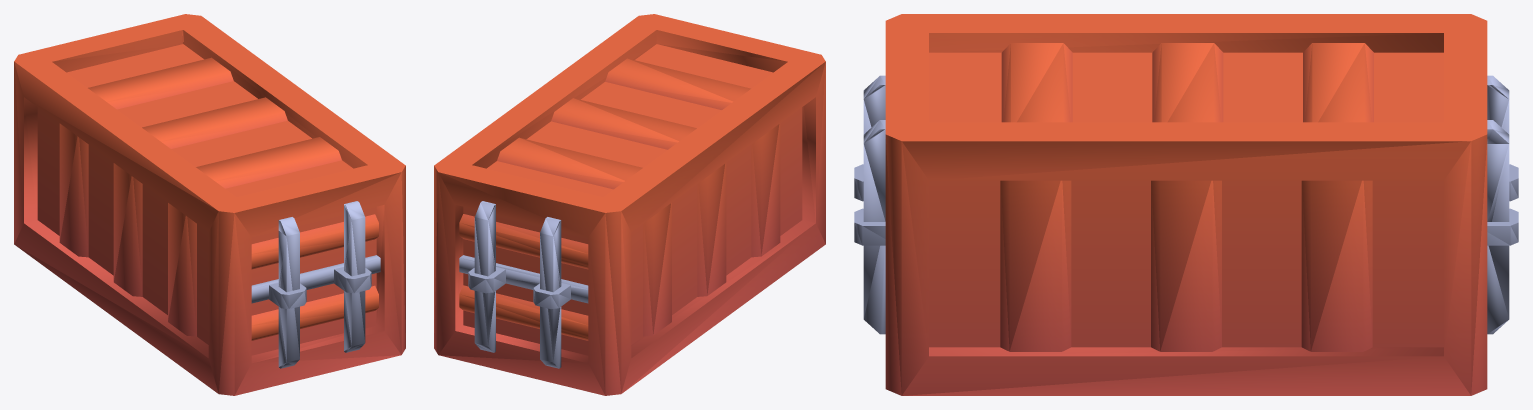
The model's file is container.glb.
3 renders of one model, left to right at view 1: azimuth 30°, elevation 25°; view 2: azimuth 150°, elevation 25°; view 3: azimuth 270°, elevation 25°, orthographic. The views are drawn at different scales.
Visible parts, largest first — view 1: shipping-container-a; view 2: shipping-container-a; view 3: shipping-container-a.
Boxes of the visible parts, x1,y1,x2,y2 form: shipping-container-a: (14,14,405,395); shipping-container-a: (434,14,825,395); shipping-container-a: (854,14,1518,395).
Size of the model in its own units: 6 by 5.61 by 13.25.
1 material, 1 textured.
